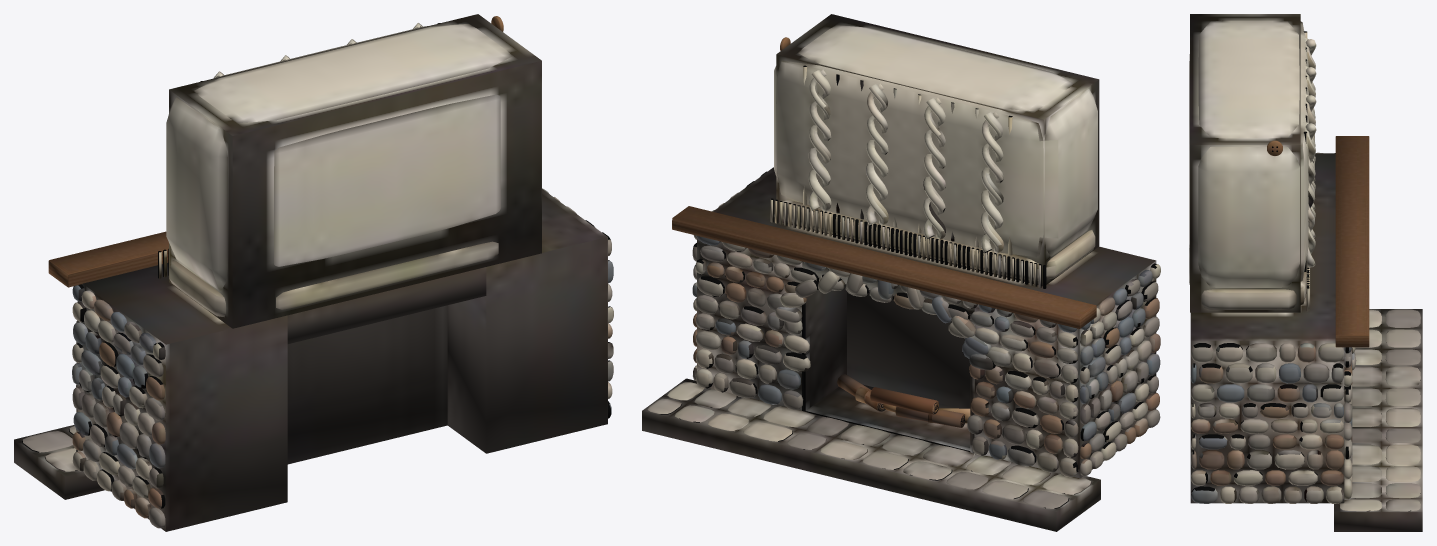
File: fireplace_sweater.glb
3 renders of one model, left to right at view 1: azimuth 30°, elevation 25°; view 2: azimuth 150°, elevation 25°; view 3: azimuth 270°, elevation 25°, orthographic. The views are drawn at different scales.
Parts seen in each view (by area): view 1: prop_fireplace_sweater_felt, prop_fireplace_sweater_wood; view 2: prop_fireplace_sweater_felt, prop_fireplace_sweater_wood; view 3: prop_fireplace_sweater_felt, prop_fireplace_sweater_wood.
Boxes of the visible parts, x1,y1,x2,y2 form: prop_fireplace_sweater_felt: (14, 14, 613, 531); prop_fireplace_sweater_wood: (48, 16, 503, 287); prop_fireplace_sweater_felt: (642, 14, 1160, 531); prop_fireplace_sweater_wood: (672, 37, 1096, 328); prop_fireplace_sweater_felt: (1189, 14, 1422, 531); prop_fireplace_sweater_wood: (1267, 136, 1369, 347).
Bounding box in the file's own units: 6.5 × 5.33 × 3.16.
2 materials, 2 textured.
